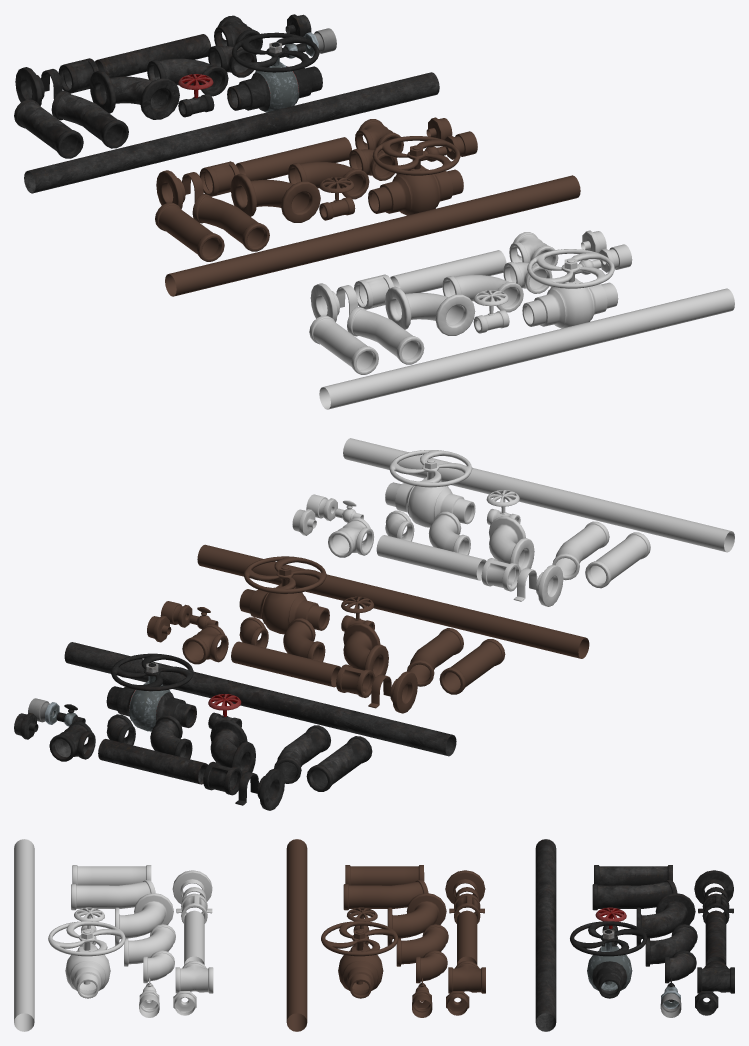
File: SteampunkPipes.fbx
3 views of the same model, one above another, from view 1: azimuth 30°, elevation 25°; view 2: azimuth 150°, elevation 25°; view 3: azimuth 270°, elevation 25° (orthographic). The views are drawn at different scales.
Visible parts, largest first — view 1: Long pipe, Long pipe.001, Long pipe.002, Valve, Valve.001, Valve.002, Pipe heavy corner.002, Pipe heavy corner, Pipe heavy corner.001, Short pipe.001, Short pipe.002, Short pipe (+27 smaller); view 2: Long pipe, Long pipe.001, Long pipe.002, Valve, Valve.001, Valve.002, Short pipe.002, Short pipe, Short pipe.001, Pipe straight connector.002, Pipe straight connector.005, Pipe straight connector.003 (+28 smaller); view 3: Long pipe, Long pipe.002, Long pipe.001, Pipe straight connector, Pipe straight connector.004, Pipe straight connector.001, Pipe heavy corner, Pipe heavy corner.002, Pipe heavy corner.001, Valve.001, Valve, Valve.002 (+33 smaller).
Part boxes in pixels (x1,y1,x2,y2): Long pipe: (165, 175, 580, 296); Long pipe.001: (319, 288, 734, 409); Long pipe.002: (24, 72, 439, 193); Valve: (368, 165, 463, 215); Valve.001: (522, 278, 618, 328); Valve.002: (227, 62, 322, 112); Pipe heavy corner.002: (89, 70, 179, 119); Pipe heavy corner: (230, 173, 320, 222); Pipe heavy corner.001: (385, 286, 475, 335); Short pipe.001: (390, 250, 506, 293); Short pipe.002: (95, 34, 211, 77); Short pipe: (236, 137, 351, 180); Long pipe: (197, 544, 589, 658); Long pipe.001: (343, 438, 734, 552); Long pipe.002: (64, 642, 456, 756); Valve: (239, 583, 329, 634); Valve.001: (385, 477, 475, 527); Valve.002: (106, 681, 196, 731); Short pipe.002: (98, 739, 207, 784); Short pipe: (231, 641, 340, 687); Short pipe.001: (376, 535, 486, 580); Pipe straight connector.002: (439, 639, 505, 694); Pipe straight connector.005: (306, 736, 372, 791); Pipe straight connector.003: (585, 532, 650, 588); Long pipe: (286, 839, 307, 1031); Long pipe.002: (535, 839, 556, 1031); Long pipe.001: (14, 839, 34, 1031); Pipe straight connector: (343, 879, 428, 910); Pipe straight connector.004: (592, 879, 677, 910); Pipe straight connector.001: (71, 879, 155, 910); Pipe heavy corner: (387, 893, 446, 945); Pipe heavy corner.002: (636, 893, 695, 945); Pipe heavy corner.001: (115, 893, 173, 945); Valve.001: (65, 943, 110, 998); Valve: (338, 943, 383, 998); Valve.002: (587, 943, 632, 998).
Size of the model in its own units: 1.55 by 0.2505 by 2.72.
